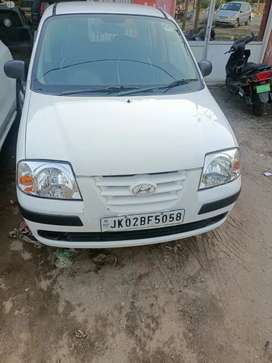JK02BF5058: (101, 209, 185, 231)
